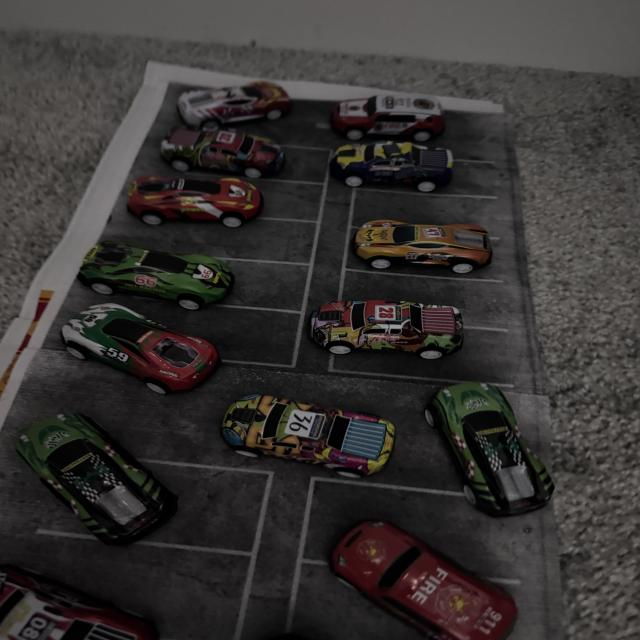car: (272, 524, 570, 640), (44, 396, 195, 530), (1, 560, 202, 640), (190, 386, 407, 458), (42, 242, 234, 318), (440, 381, 563, 496), (0, 331, 240, 388), (109, 154, 278, 220), (139, 78, 331, 134), (306, 292, 452, 360), (354, 227, 504, 285), (322, 145, 472, 202), (300, 73, 434, 120), (173, 144, 277, 170)
